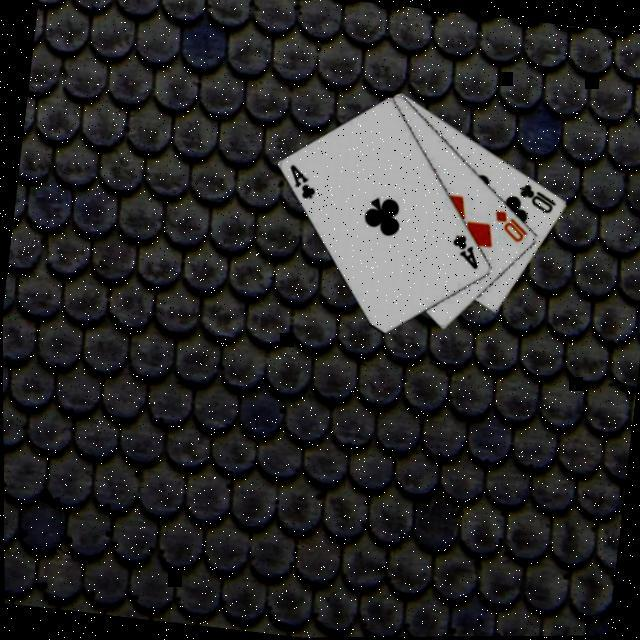10C: (512, 178, 558, 215)
10D: (486, 204, 530, 244)
AC: (444, 229, 482, 271), (282, 159, 318, 201)
